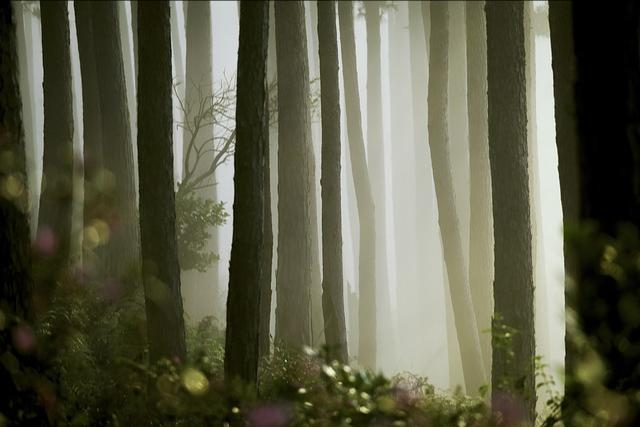Non_Gorille: (44, 39, 620, 412)
